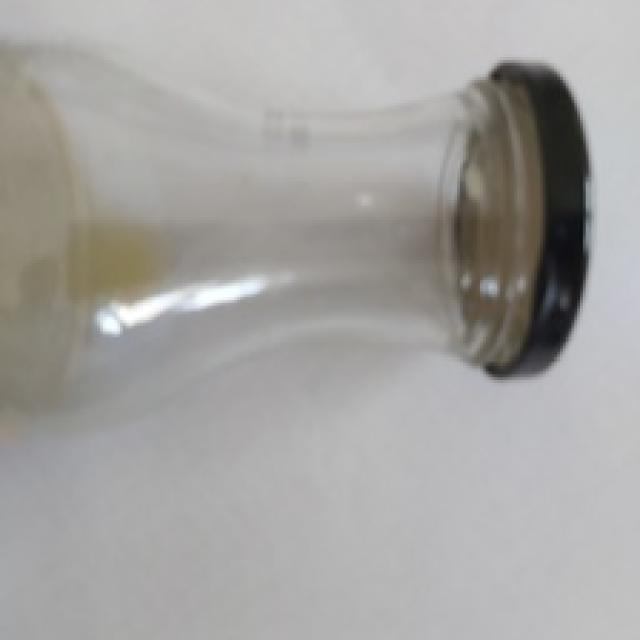Glass: (0, 43, 544, 437)
